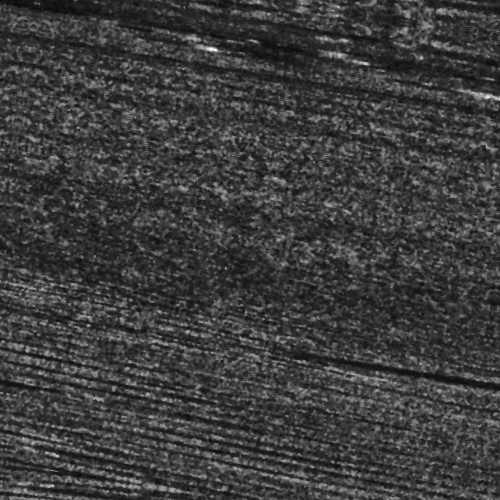object: (260, 35, 333, 44), (422, 54, 485, 59)
shadow: (387, 335, 500, 346), (203, 35, 296, 44), (365, 54, 453, 59)
